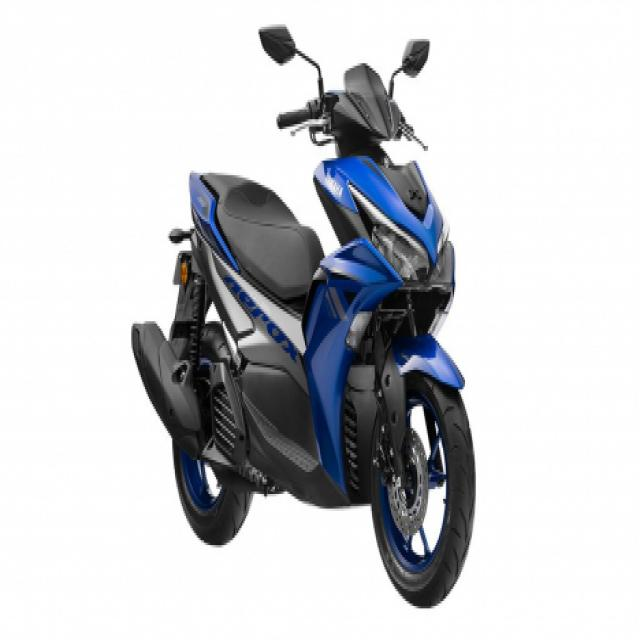Bike: (131, 22, 477, 611)
